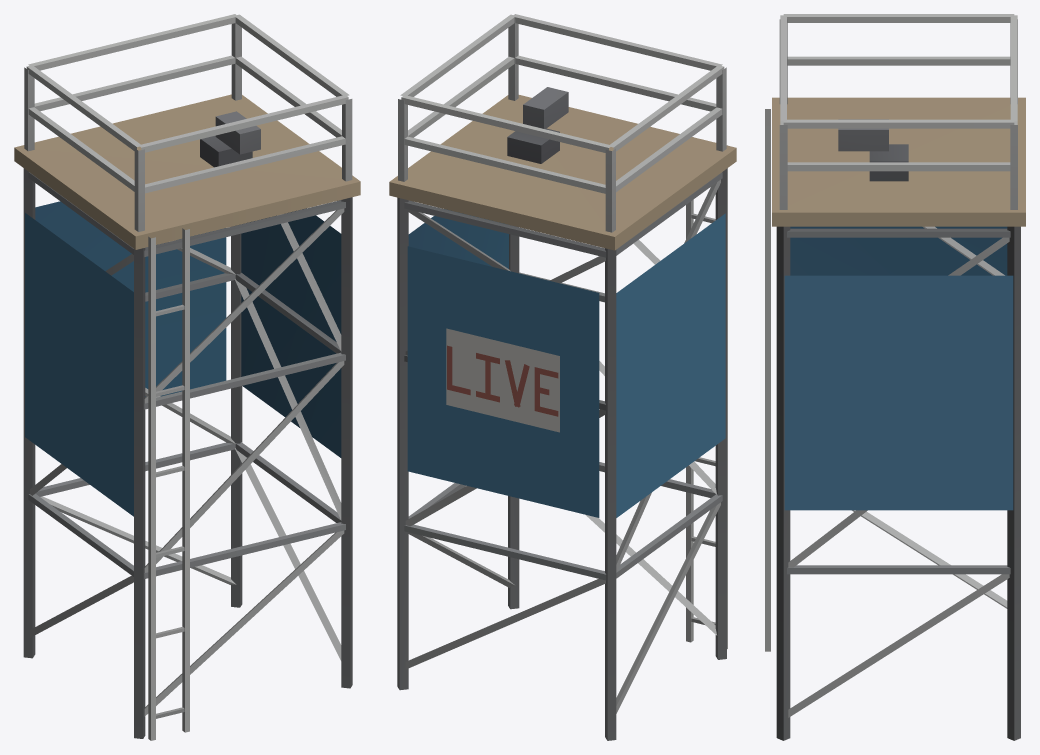
The model's file is camtower.lod1.glb.
3 views of the same model, side by side, from view 1: azimuth 30°, elevation 25°; view 2: azimuth 150°, elevation 25°; view 3: azimuth 270°, elevation 25° (orthographic). The views are drawn at different scales.
Size of the model in its own units: 2.78 by 6.96 by 2.67.
